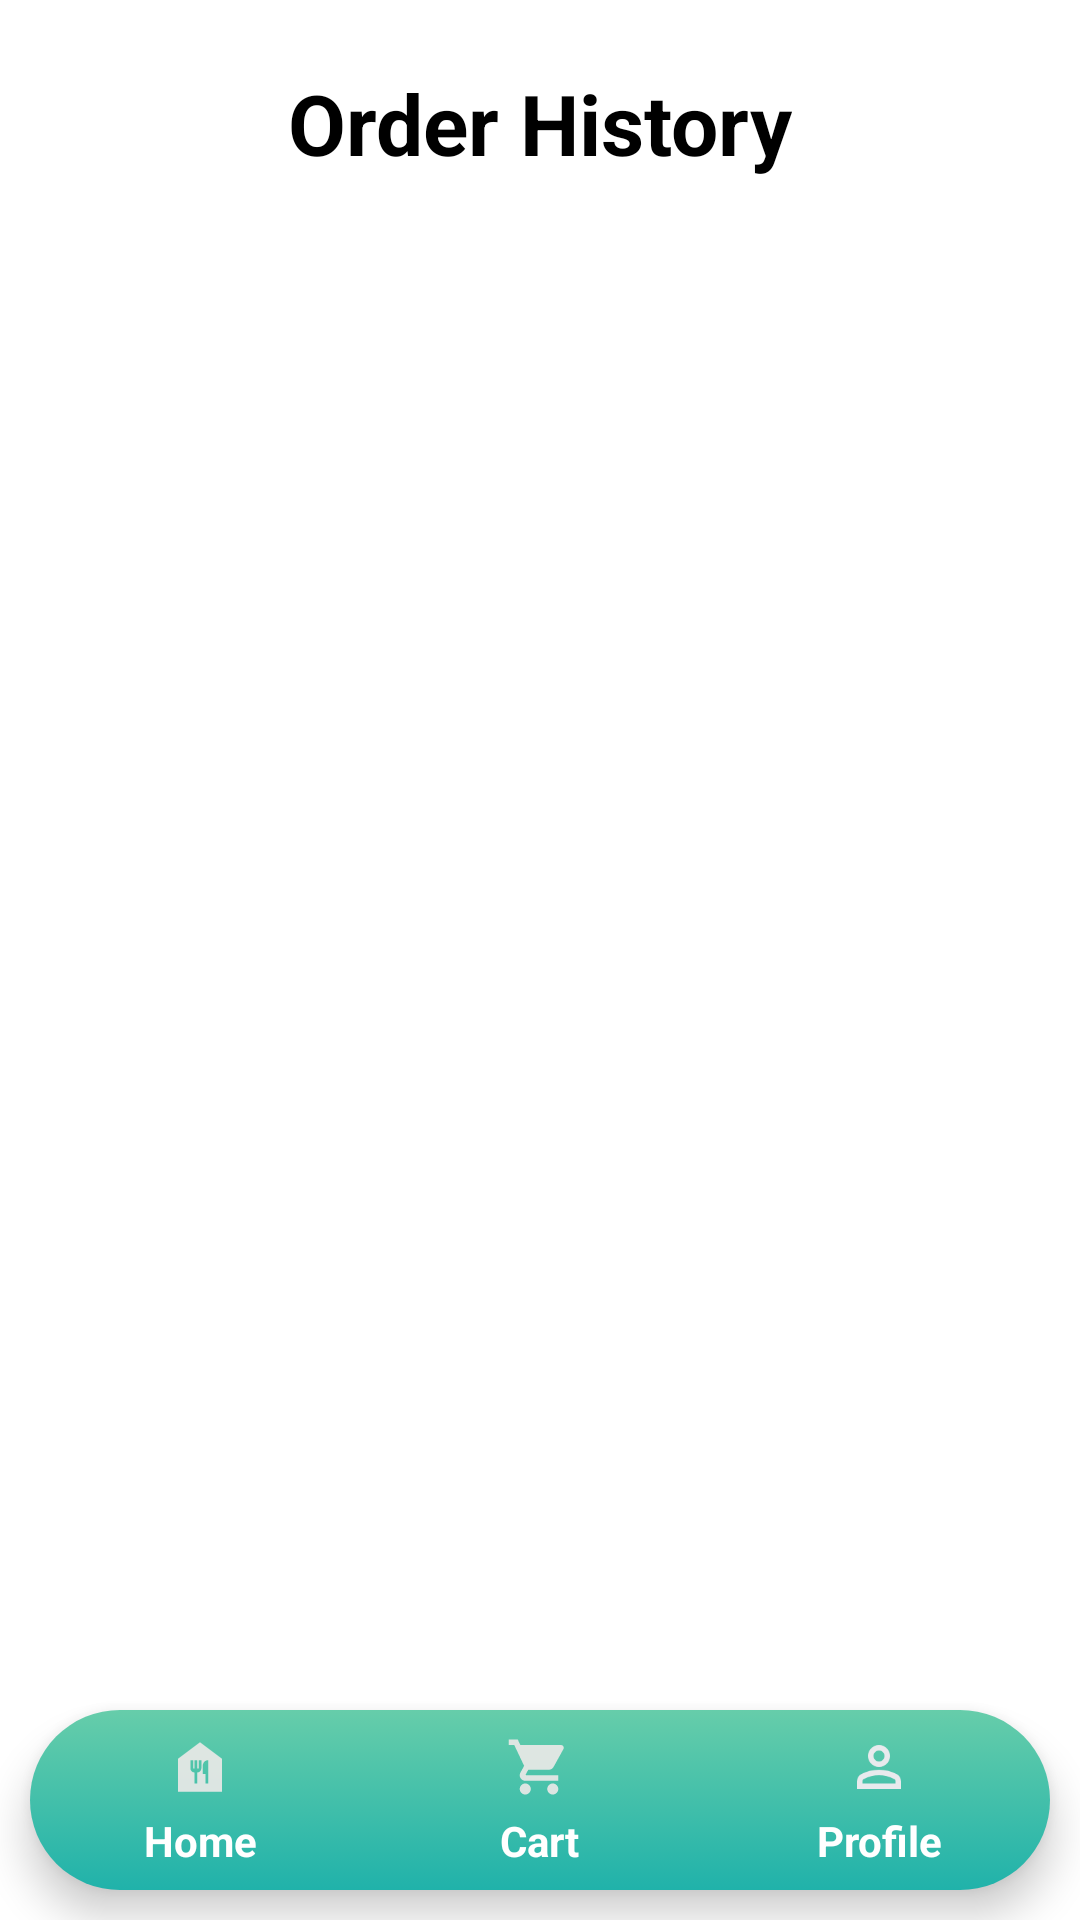

Where icons sit on this 1080px x 1920px app screen, as bbox=[x1, y1, x2, y2]:
food bank: bbox=[167, 1742, 233, 1800]
person: bbox=[846, 1745, 912, 1800]
